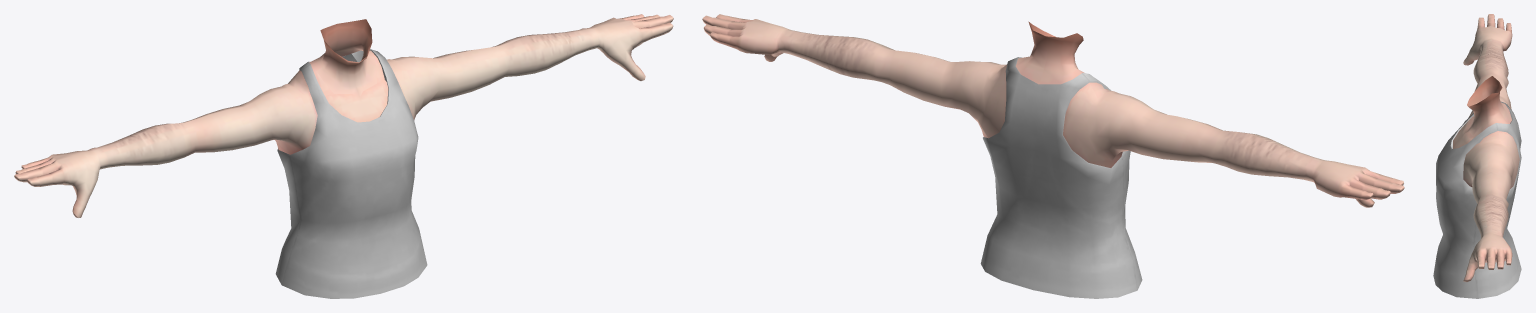
File: tr0860_00_upb01.gltf
3 renders of one model, left to right at view 1: azimuth 30°, elevation 25°; view 2: azimuth 150°, elevation 25°; view 3: azimuth 270°, elevation 25°, orthographic. The views are drawn at different scales.
Parts seen in each view (by area): view 1: upb01_upperskin_mesh_shape:upperbody01_skin, upb01_upperbody_mesh_shape:upperbody01; view 2: upb01_upperskin_mesh_shape:upperbody01_skin, upb01_upperbody_mesh_shape:upperbody01; view 3: upb01_upperskin_mesh_shape:upperbody01_skin, upb01_upperbody_mesh_shape:upperbody01.
Boxes of the visible parts, <box> form: upb01_upperskin_mesh_shape:upperbody01_skin: <box>14,14,673,217</box>; upb01_upperbody_mesh_shape:upperbody01: <box>275,49,427,298</box>; upb01_upperskin_mesh_shape:upperbody01_skin: <box>702,14,1404,207</box>; upb01_upperbody_mesh_shape:upperbody01: <box>980,57,1142,298</box>; upb01_upperskin_mesh_shape:upperbody01_skin: <box>1453,14,1519,282</box>; upb01_upperbody_mesh_shape:upperbody01: <box>1433,101,1521,298</box>.
Size of what is drawn, in the model's own units: 1.63 by 0.5735 by 0.24.
Materials: 2 (2 with a texture image).
